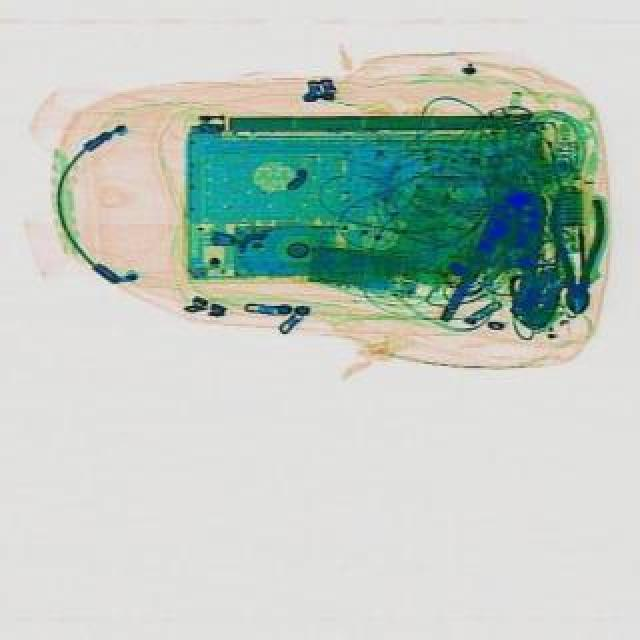wrench: (438, 182, 566, 346), (542, 198, 602, 316)
